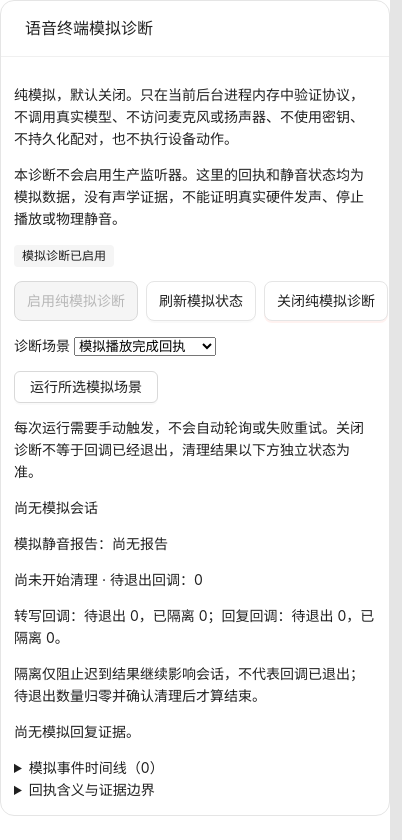
it: memory-only terminal diagnostics › requires a manual read after uncertain write failure, hides raw errors, and never retries
Check: the text "模拟诊断已启用" is shown, box [14, 245, 114, 267]
Click the button "运行所选模拟场景" at coordinates (86, 387), box [14, 371, 158, 403]
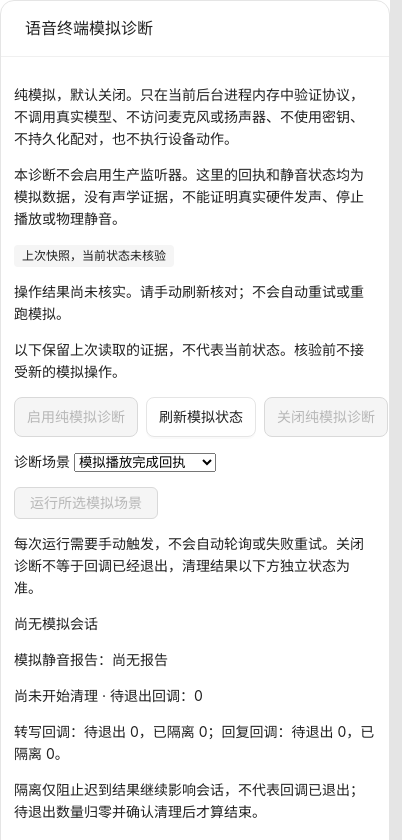
Check: the message shows "不会自动重试或重跑模拟", box [14, 283, 364, 322]
Check: the text "上次快照，当前状态未核验" is shown, box [14, 245, 174, 267]
Check: the button "运行所选模拟场景" is disabled, box [14, 487, 158, 519]
Click the button "刷新模拟状态" at coordinates (201, 417), box [146, 397, 256, 437]
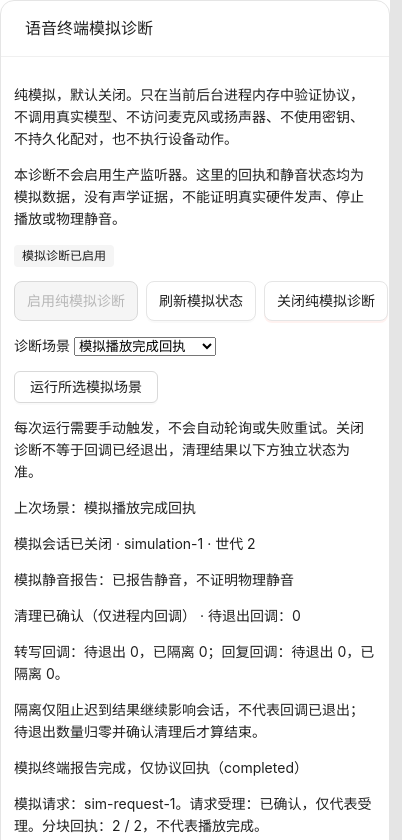
Check: the message "操作结果尚未核实。请手动刷新核对；不会自动重试或重跑模拟。" is gone
Check: the button "运行所选模拟场景" is enabled, box [14, 371, 158, 403]
